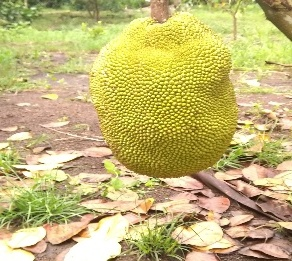Mit: (91, 14, 239, 178)
